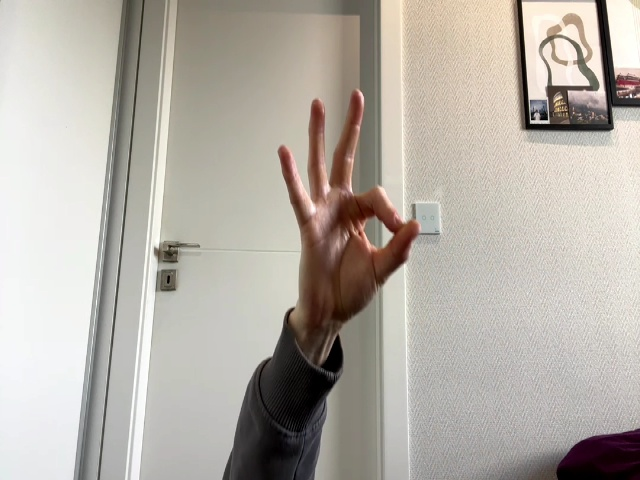O: (277, 88, 421, 326)
